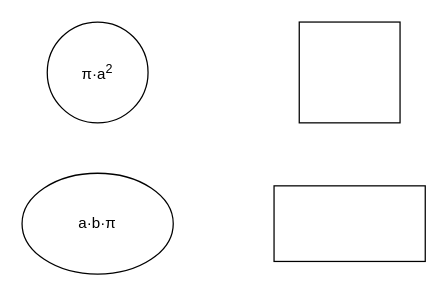
Image size: 447x296. Some labels were removed from this diagram. The shapes that lost their labels are listed below. From the top down, each one's centre as x and y in pixels, then its label:
pixel 349 72: a 2
pixel 349 223: a·b
